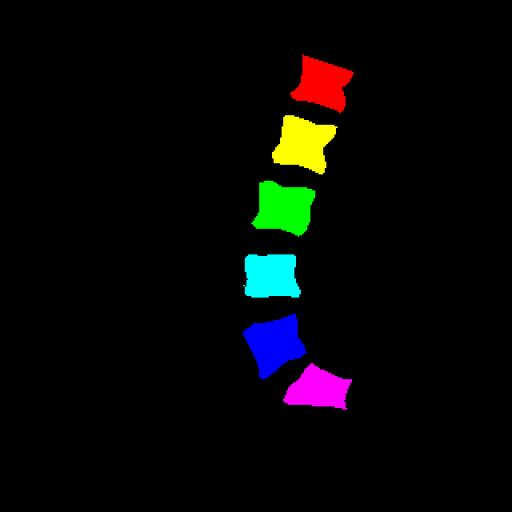L1: (290, 55, 353, 112)
L2: (272, 115, 337, 174)
L3: (252, 181, 315, 236)
L4: (245, 254, 301, 298)
L5: (243, 314, 306, 379)
S1: (283, 363, 352, 408)
